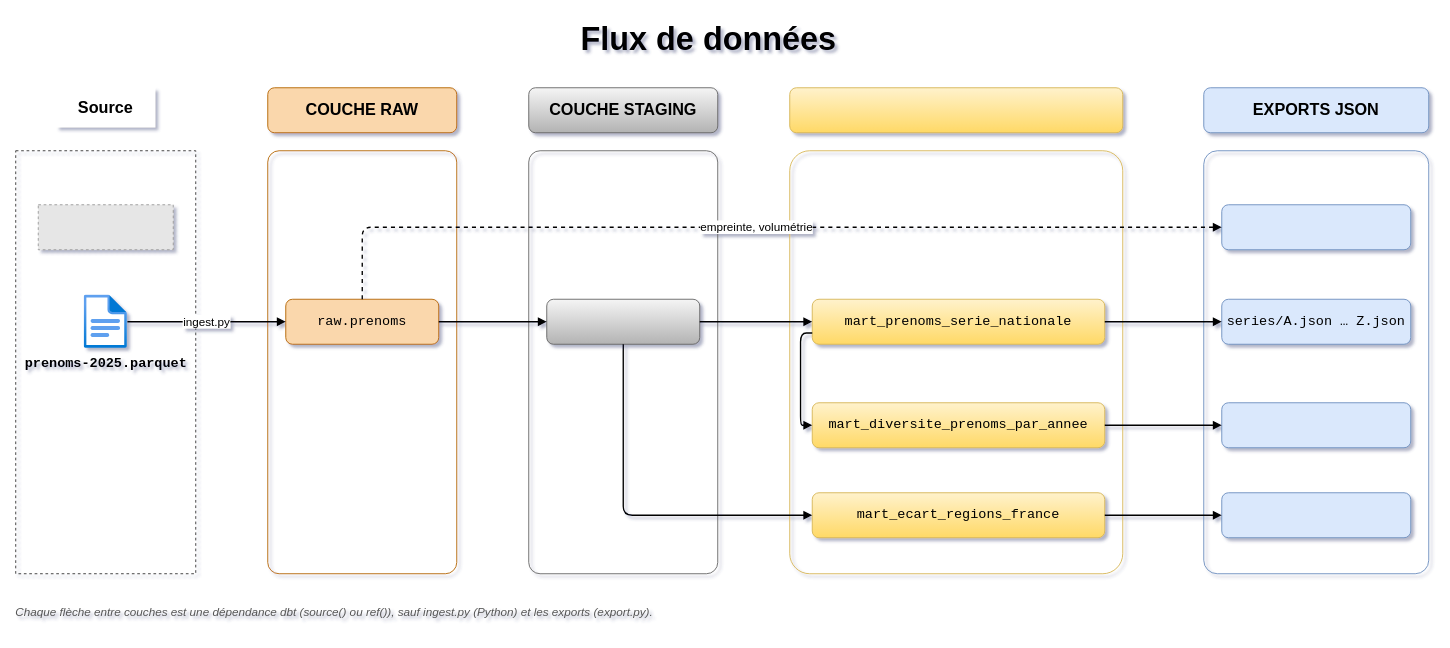
The diagram is 1450 pixels wide and 648 high, and some of its shapes have lost their labels. Grey dashed boxes stand in for pictures. Here are the shapes that lost their labels. From the top down, the centre of each, then its label:
At (x=956, y=110): "COUCHE MARTS".
At (x=1316, y=227): "metadata.json".
At (x=623, y=321): "stg_insee__prenoms".
At (x=1316, y=425): "diversite.json".
At (x=1316, y=515): "ecart_regions.json".
